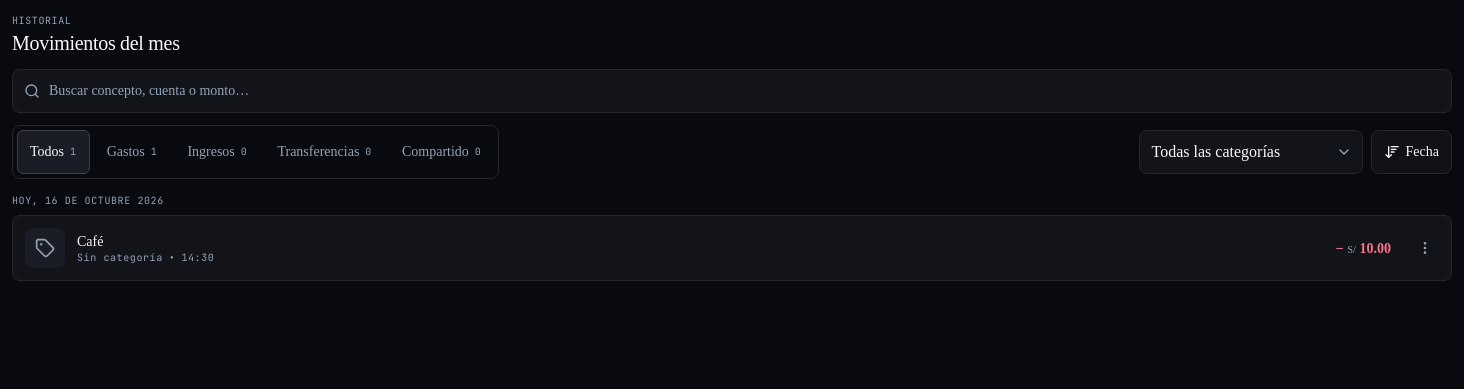
Scenario: MovementList › edit and delete › shows the error when the delete fails
This screenshot has width=1464, height=389.
Click the button named "Acciones de Café".
click(1425, 248)  # box [1403,226,1447,270]
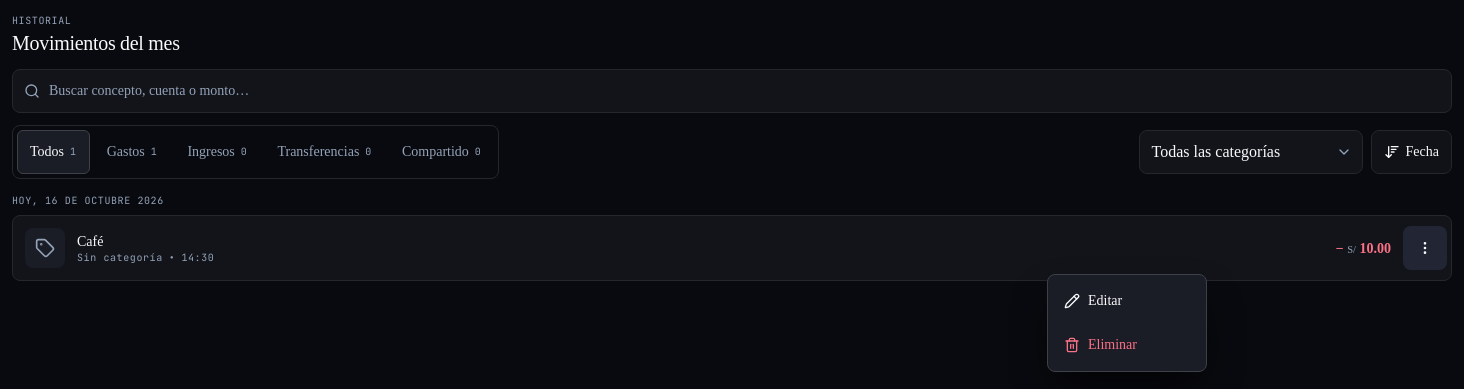
Click the menu item "Eliminar".
click(1100, 345)  # box [1064,337,1137,353]
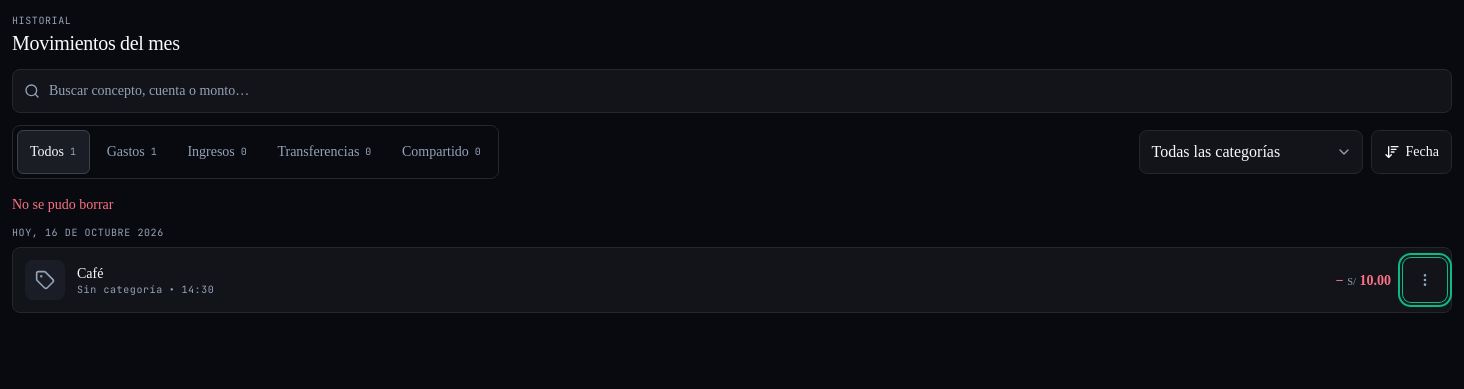
expect the message reads "No se pudo borrar": met, box [12,197,114,212]
